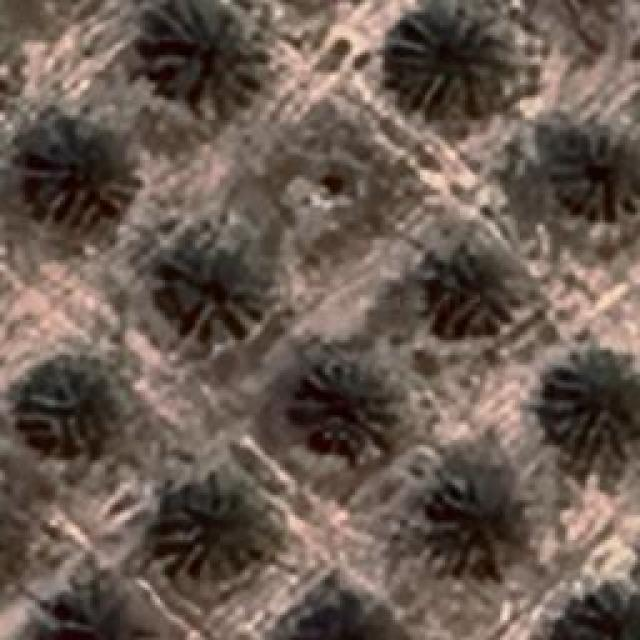PalmTree: (132, 58, 337, 614), (106, 52, 132, 611), (388, 0, 508, 110), (140, 0, 265, 105), (542, 348, 638, 468), (165, 242, 265, 340), (28, 123, 138, 210), (432, 475, 532, 570), (154, 490, 268, 572), (304, 360, 398, 452), (558, 123, 638, 220), (430, 245, 520, 330), (28, 367, 122, 445), (574, 580, 638, 635), (0, 1, 23, 114), (0, 478, 18, 582)
